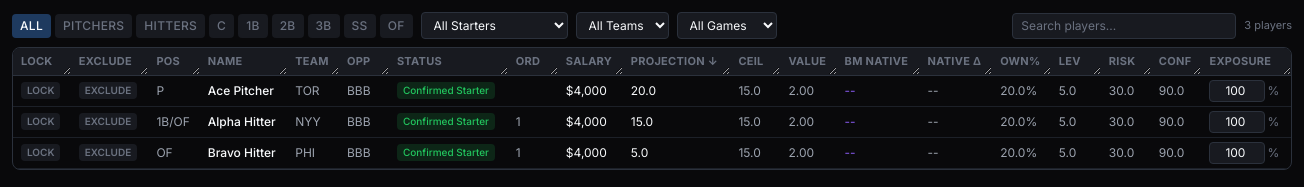
Test: PoolTable › a multi-position player appears under every eligible position tab
The width and height of the screenshot is (1304, 187).
Click the button "1B" at (253, 26), box [238,14,268,38]
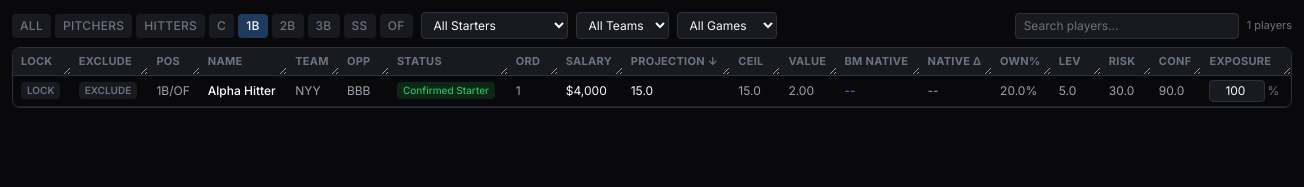
Expected: the button "Alpha Hitter" is shown, [208,83,276,99]
Click the button "OF" at (396, 26), box [380,14,413,38]
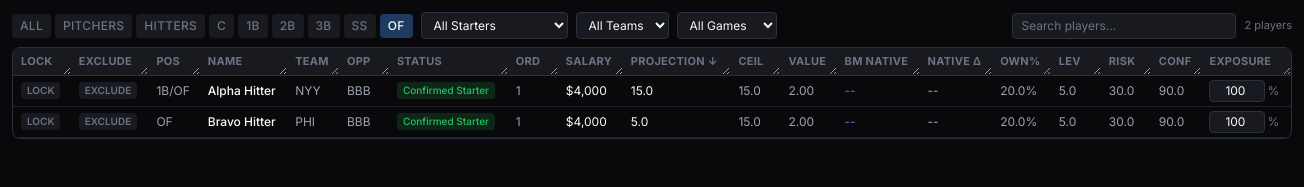
Expected: the button "Alpha Hitter" is shown, [208,83,276,99]
Expected: the button "Bravo Hitter" is shown, [208,114,276,130]
